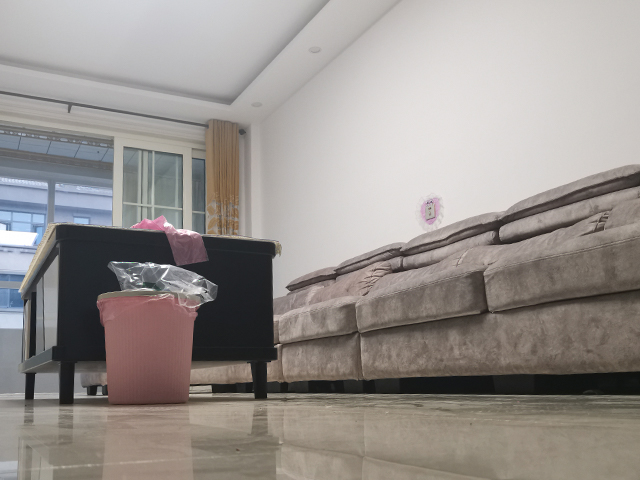curtain: (208, 119, 241, 241)
sofa: (272, 162, 640, 396)
table: (16, 221, 282, 405)
trashcan: (94, 289, 200, 406)
